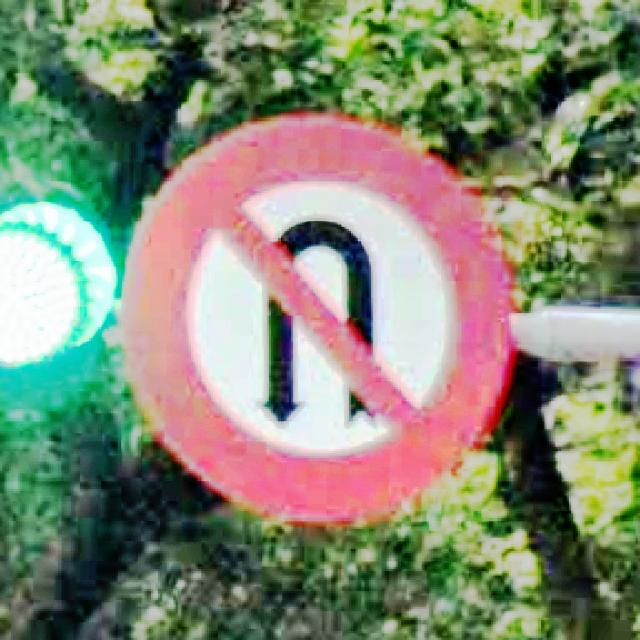nouturn: (129, 118, 513, 522)
